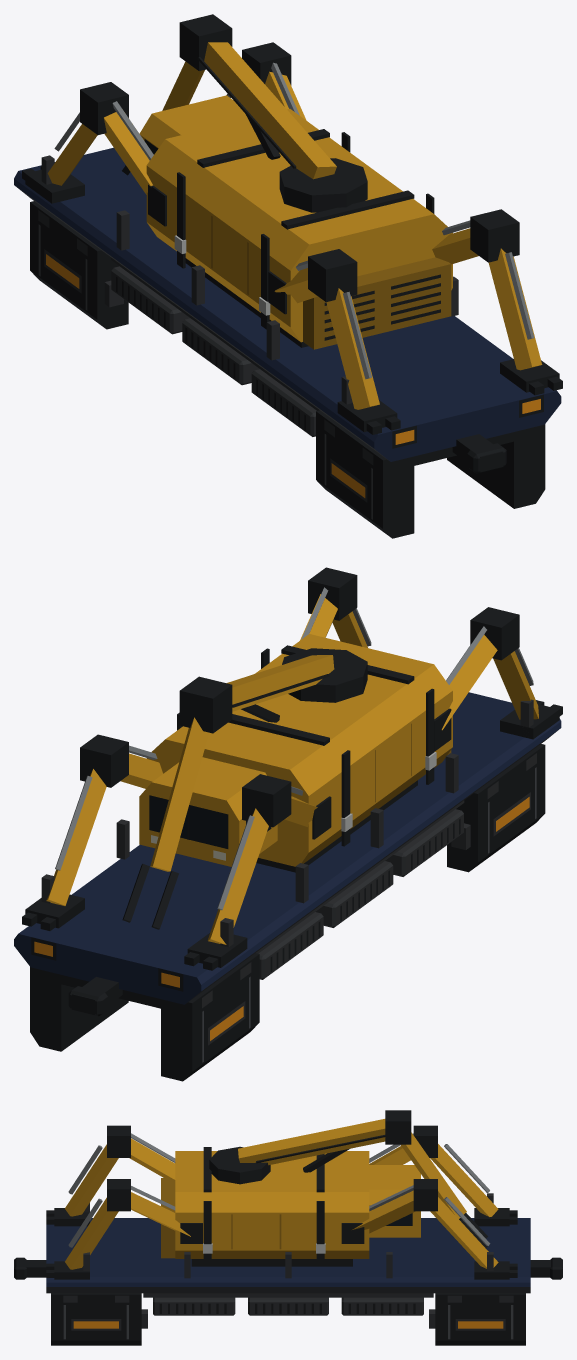
File: colony-heavy.glb
3 renders of one model, top to bottom at view 1: azimuth 30°, elevation 25°; view 2: azimuth 150°, elevation 25°; view 3: azimuth 270°, elevation 25°, orthographic. The views are drawn at different scales.
Visible parts, largest first — view 1: colony-heavy; view 2: colony-heavy; view 3: colony-heavy.
Boxes of the visible parts, x1,y1,x2,y2 form: colony-heavy: (14, 14, 562, 538); colony-heavy: (14, 567, 562, 1081); colony-heavy: (14, 1110, 562, 1345).
Size of the model in its own units: 9.4 by 14.1 by 34.
